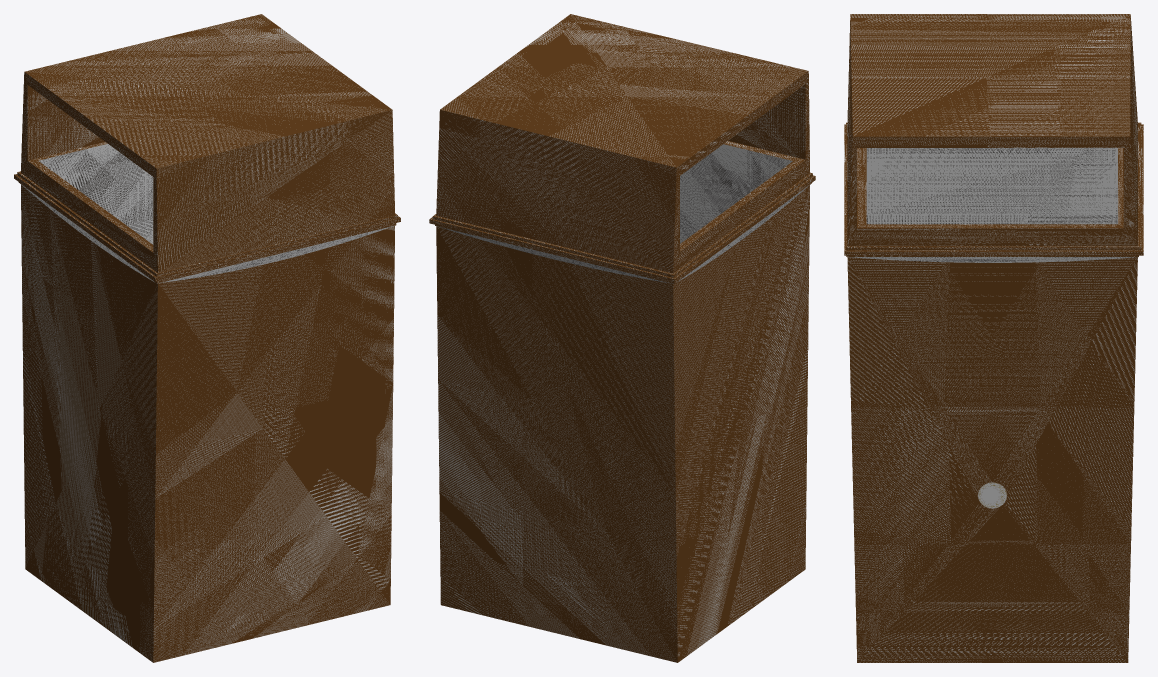
3 renders of one model, left to right at view 1: azimuth 30°, elevation 25°; view 2: azimuth 150°, elevation 25°; view 3: azimuth 270°, elevation 25°, orthographic. The views are drawn at different scales.
Visible parts, largest first — view 1: mesh1_mesh1-geometry; view 2: mesh1_mesh1-geometry; view 3: mesh1_mesh1-geometry.
Part boxes in pixels (x1,y1,x2,y2): mesh1_mesh1-geometry: [14, 14, 400, 662]; mesh1_mesh1-geometry: [429, 14, 815, 662]; mesh1_mesh1-geometry: [844, 14, 1143, 662].
Size of the model in its own units: 0.4182 by 0.8076 by 0.4159.
